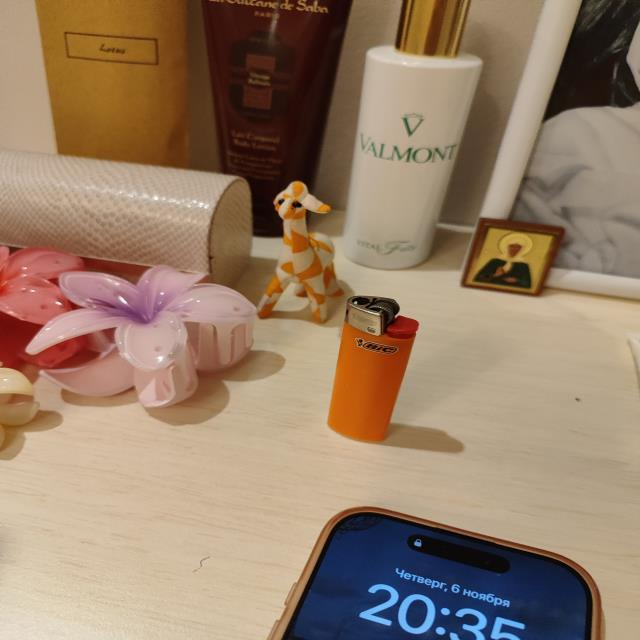lighter: (327, 298, 417, 440)
